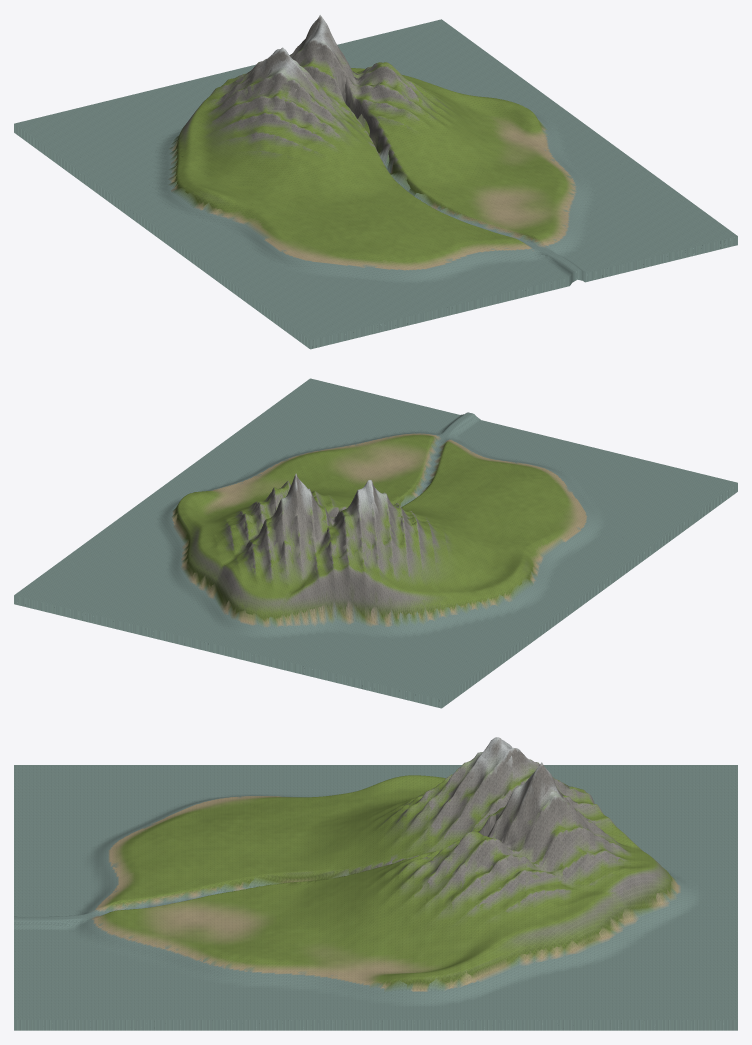
The model's file is terrain-chunks.glb.
3 views of the same model, one above another, from view 1: azimuth 30°, elevation 25°; view 2: azimuth 150°, elevation 25°; view 3: azimuth 270°, elevation 25° (orthographic). The views are drawn at different scales.
Parts seen in each view (by area): view 1: Island_0_11_L0, Island_3_4_L2, Island_3_4_L0, Island_5_6_L0, Island_1_11_L0, Island_3_11_L0, Island_7_11_L0, Island_3_6_L0, Island_2_4_L2, Island_0_0_L0, Island_2_3_L2, Island_4_6_L2 (+147 smaller); view 2: Island_3_2_L0, Island_4_2_L2, Island_3_2_L2, Island_3_3_L2, Island_0_0_L0, Island_4_1_L0, Island_4_1_L2, Island_2_2_L2, Island_2_3_L2, Island_2_2_L0, Island_6_0_L0, Island_5_2_L2 (+140 smaller); view 3: Island_7_5_L2, Island_4_4_L2, Island_7_4_L2, Island_5_3_L2, Island_9_1_L0, Island_9_10_L0, Island_9_7_L0, Island_9_2_L0, Island_9_8_L0, Island_9_9_L0, Island_9_11_L0, Island_9_3_L0 (+220 smaller).
Boxes of the visible parts, x1,y1,x2,y2 form: Island_0_11_L0: (285, 312, 352, 349); Island_3_4_L2: (241, 56, 306, 140); Island_3_4_L0: (243, 48, 307, 137); Island_5_6_L0: (378, 138, 442, 184); Island_1_11_L0: (329, 301, 395, 338); Island_3_11_L0: (414, 281, 481, 317); Island_7_11_L0: (585, 239, 652, 276); Island_3_6_L0: (290, 156, 347, 201); Island_2_4_L2: (198, 116, 264, 176); Island_0_0_L0: (14, 113, 80, 150); Island_2_3_L2: (175, 104, 240, 157); Island_4_6_L2: (333, 153, 394, 190); Island_3_2_L0: (320, 533, 383, 628); Island_4_2_L2: (277, 515, 344, 586); Island_3_2_L2: (320, 537, 386, 629); Island_3_3_L2: (347, 487, 411, 574); Island_0_0_L0: (399, 671, 466, 708); Island_4_1_L0: (256, 575, 319, 639); Island_4_1_L2: (252, 573, 319, 639); Island_2_2_L2: (363, 575, 429, 641); Island_2_3_L2: (387, 546, 454, 618); Island_2_2_L0: (365, 576, 425, 642); Island_6_0_L0: (142, 609, 207, 645); Island_5_2_L2: (235, 501, 301, 572); Island_7_5_L2: (376, 901, 436, 959); Island_4_4_L2: (436, 752, 496, 841); Island_7_4_L2: (436, 893, 496, 953); Island_5_3_L2: (496, 779, 556, 861); Island_9_1_L0: (617, 994, 677, 1030); Island_9_10_L0: (74, 994, 134, 1030); Island_9_7_L0: (255, 994, 315, 1030); Island_9_2_L0: (557, 994, 617, 1030); Island_9_8_L0: (195, 994, 255, 1030); Island_9_9_L0: (134, 994, 194, 1030); Island_9_11_L0: (14, 994, 74, 1030); Island_9_3_L0: (496, 994, 556, 1030).
Size of the model in its own units: 1000 by 272 by 1200.
Materials: 1 (1 with a texture image).
